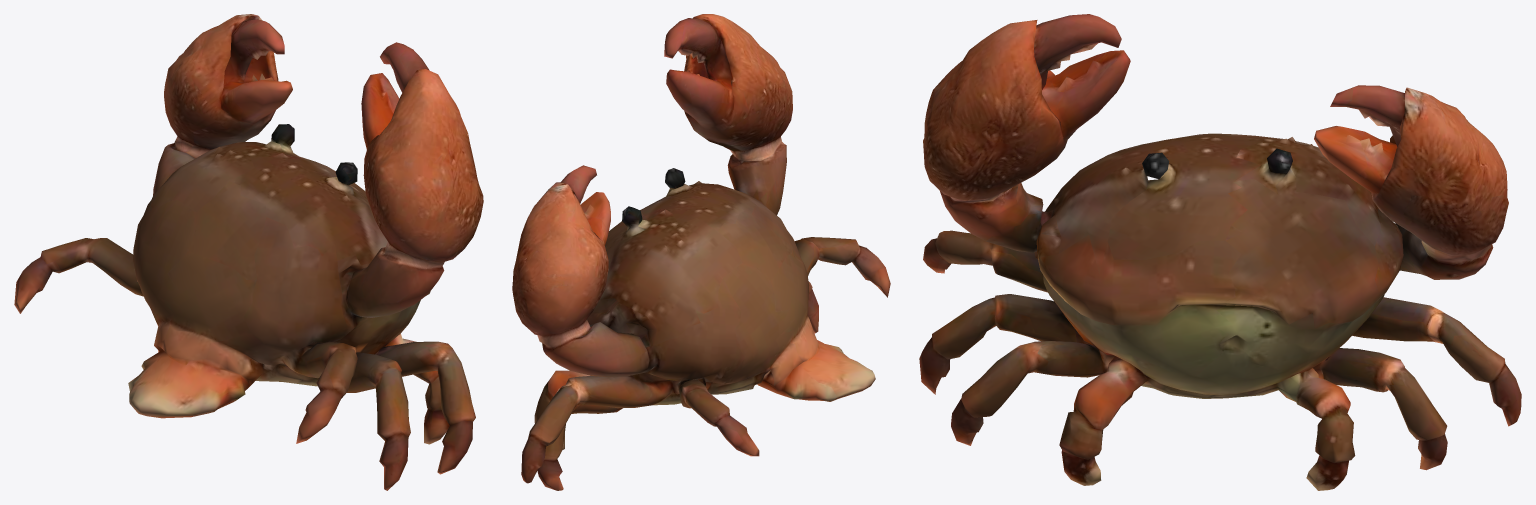
File: chamge.glb
3 renders of one model, left to right at view 1: azimuth 30°, elevation 25°; view 2: azimuth 150°, elevation 25°; view 3: azimuth 270°, elevation 25°, orthographic. The views are drawn at different scales.
Parts seen in each view (by area): view 1: tripo_node_c89efbe3-de1f-4e63-bf32-32cb1216a36f; view 2: tripo_node_c89efbe3-de1f-4e63-bf32-32cb1216a36f; view 3: tripo_node_c89efbe3-de1f-4e63-bf32-32cb1216a36f.
Boxes of the visible parts, bbox=[...] form: tripo_node_c89efbe3-de1f-4e63-bf32-32cb1216a36f: bbox=[14, 14, 483, 490]; tripo_node_c89efbe3-de1f-4e63-bf32-32cb1216a36f: bbox=[512, 14, 890, 490]; tripo_node_c89efbe3-de1f-4e63-bf32-32cb1216a36f: bbox=[919, 14, 1521, 490].
Bounding box in the file's own units: 0.6351 × 0.8389 × 0.9915.
Materials: 1 (1 with a texture image).
